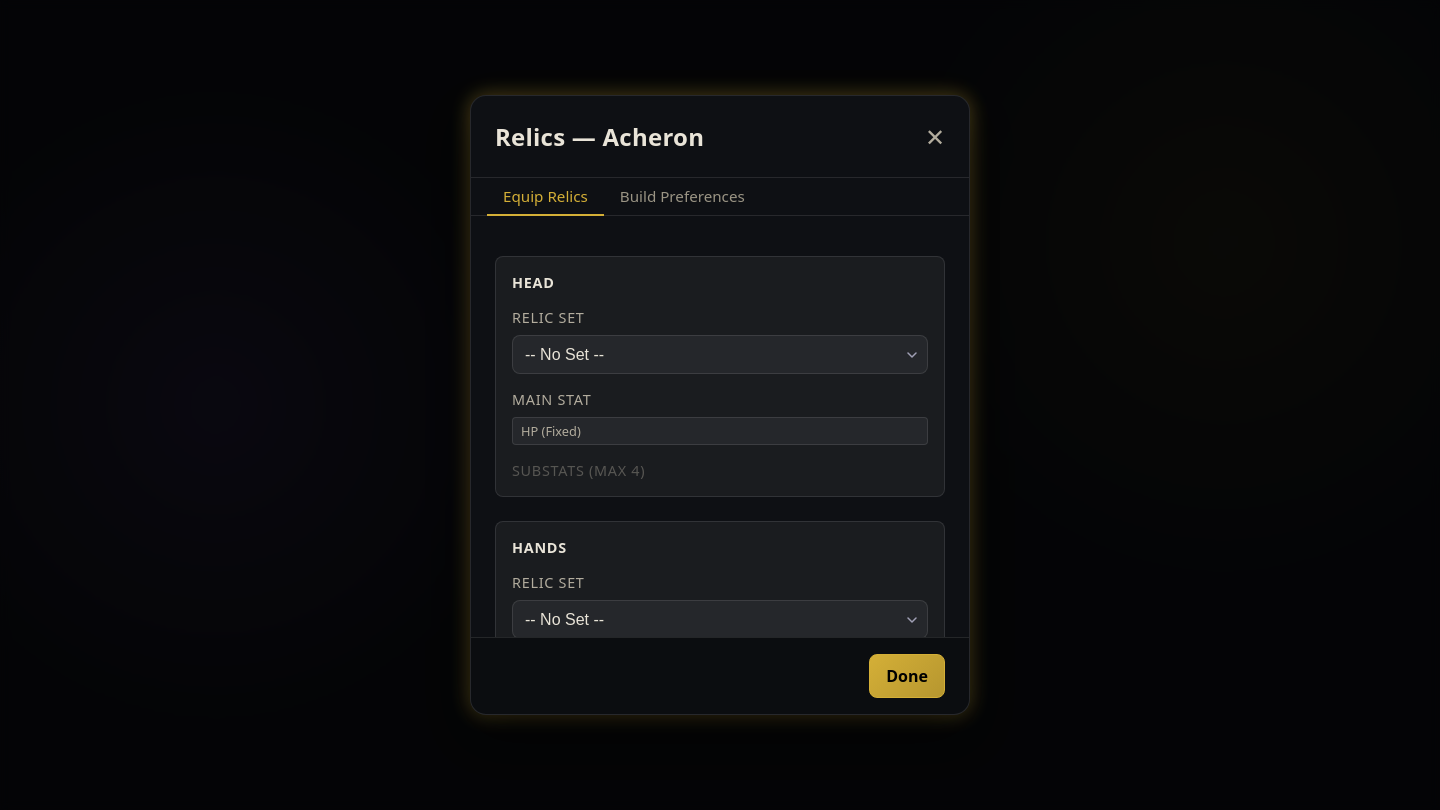
Test: RelicEditorModal › shows the preferred relic/planar set selects and comments field
The width and height of the screenshot is (1440, 810).
Click the button "Build Preferences" at (682, 197), box [604,178,761,216]
(page scrolled)
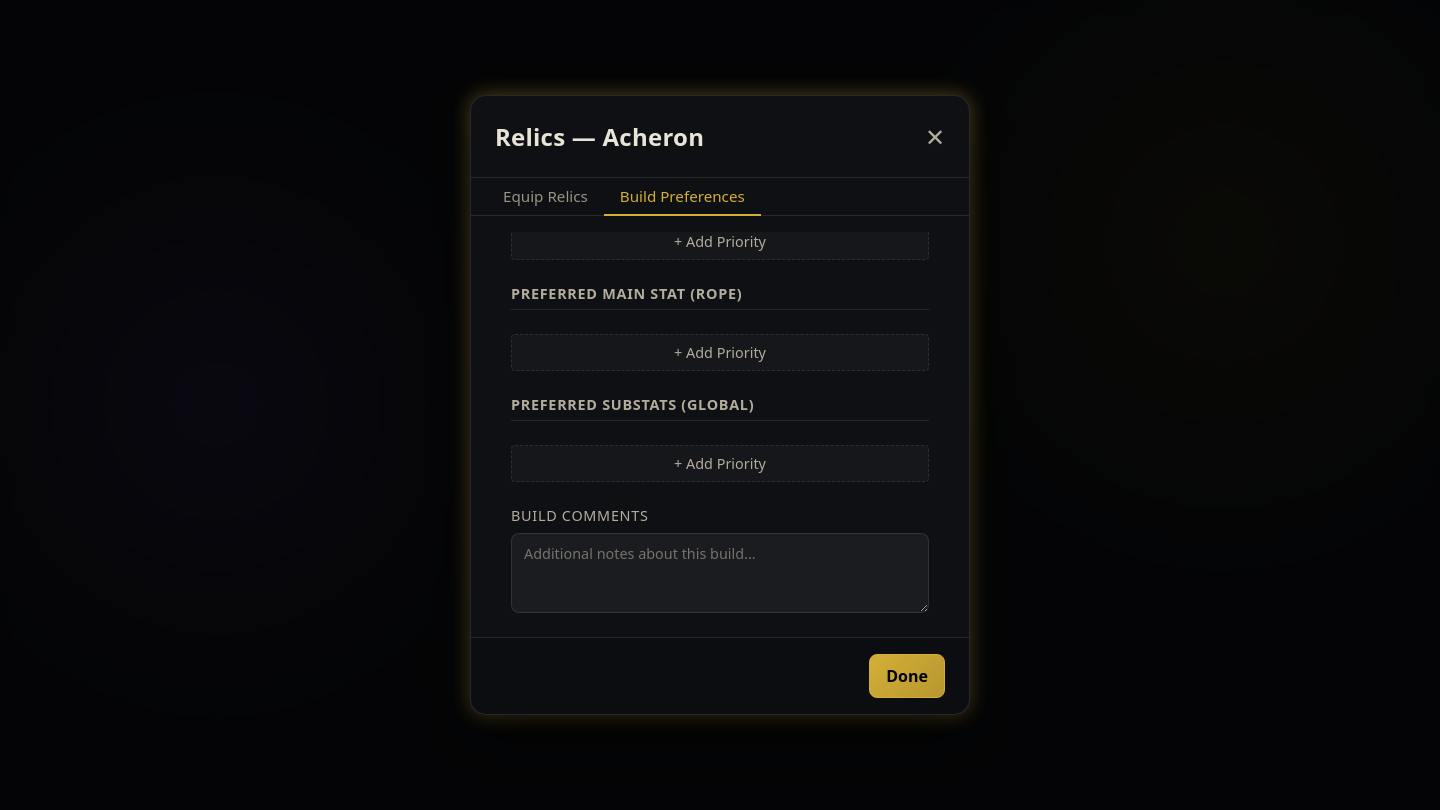
Check: the text box with placeholder "Additional notes about this build..." is shown, box [511,533,929,613]
